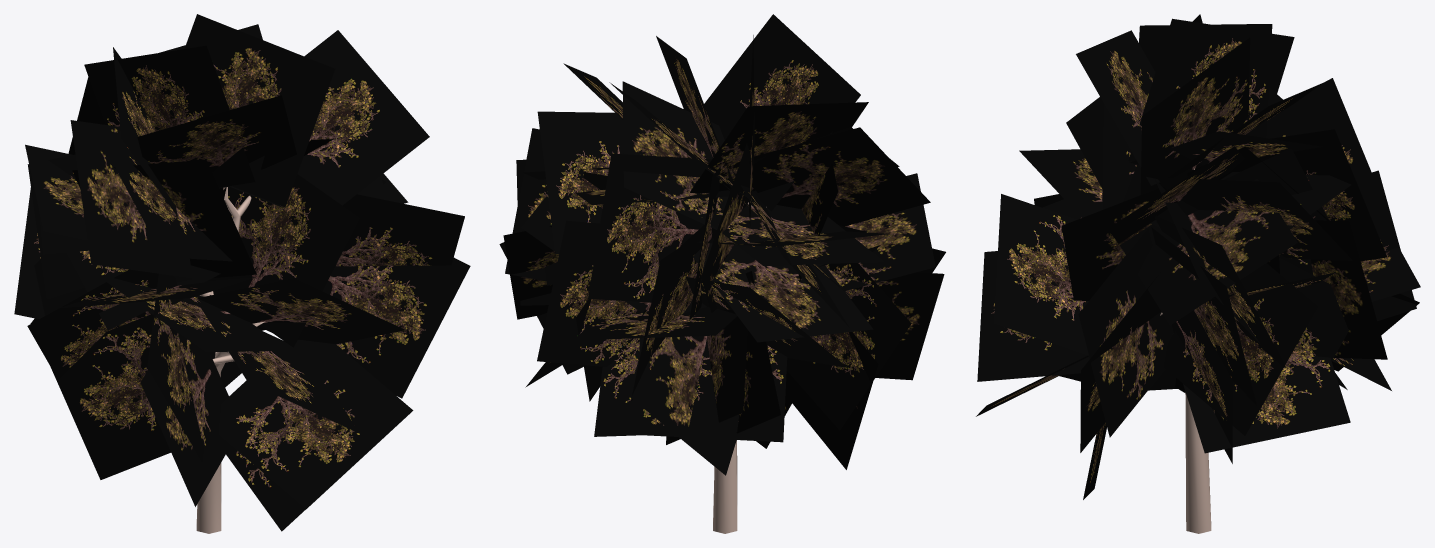
The model's file is tree36.glb.
3 views of the same model, side by side, from view 1: azimuth 30°, elevation 25°; view 2: azimuth 150°, elevation 25°; view 3: azimuth 270°, elevation 25° (orthographic). The views are drawn at different scales.
Size of the model in its own units: 6.1 by 7.27 by 5.86.
2 materials, 1 textured.
